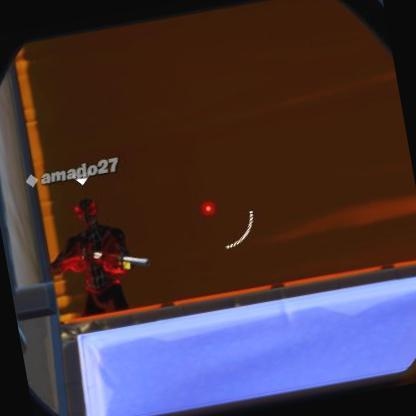person: (39, 194, 139, 321)
